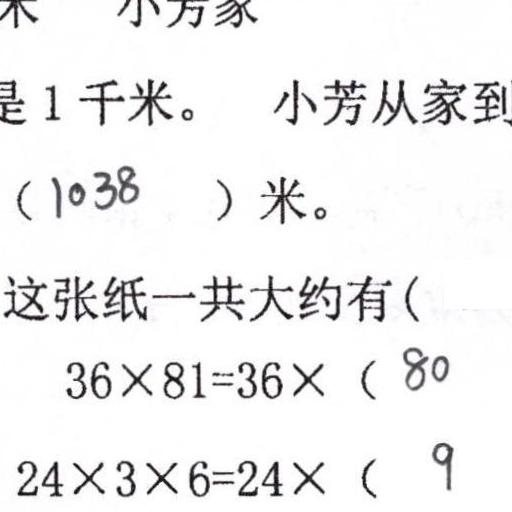ans: (48, 162, 144, 220), (396, 339, 448, 391), (425, 434, 457, 490)
